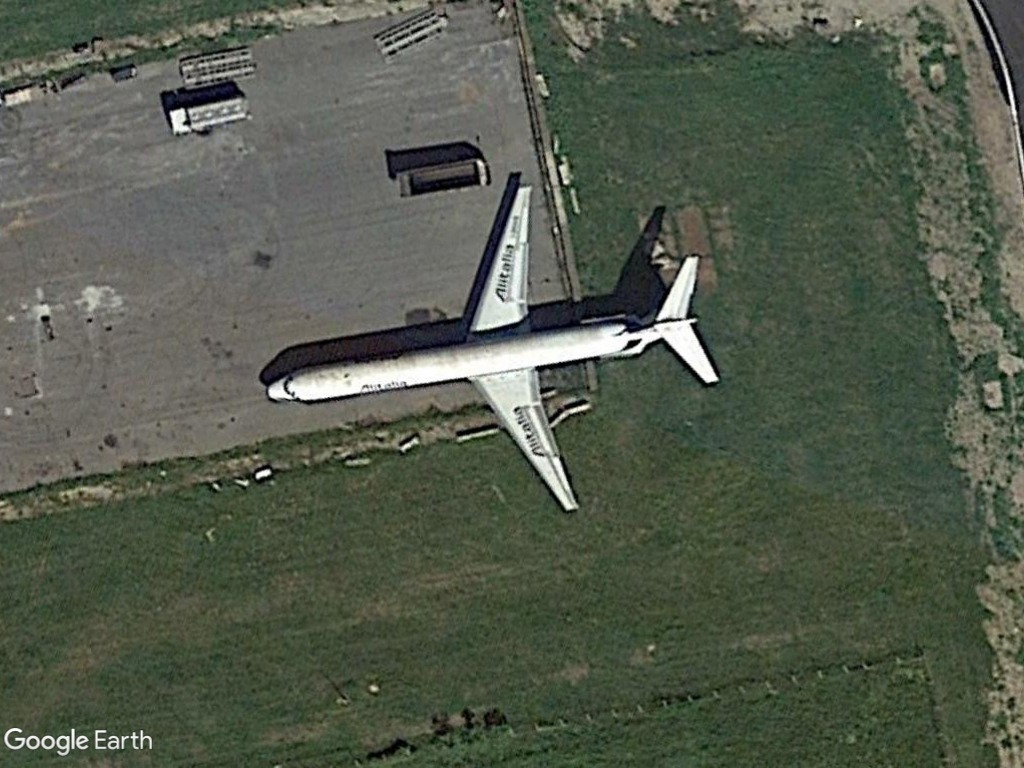airliner: (258, 179, 732, 522)
